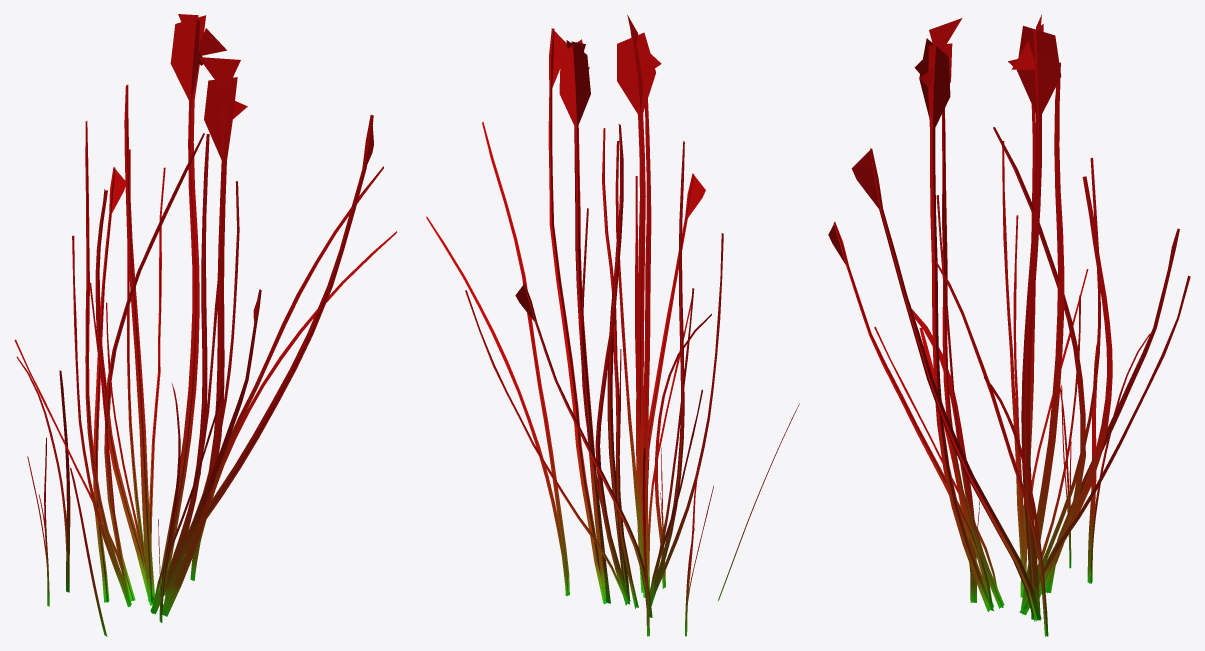
File: Var2_LOD0.fbx
The picture shows the model from 3 angles, left to right: view 1: azimuth 30°, elevation 25°; view 2: azimuth 150°, elevation 25°; view 3: azimuth 270°, elevation 25°; orthographic projection. The views are drawn at different scales.
Visible parts, largest first — view 1: _f80e_Var2_LOD0; view 2: _f80e_Var2_LOD0; view 3: _f80e_Var2_LOD0.
Boxes of the visible parts, <box> form: _f80e_Var2_LOD0: <box>14,14,396,636</box>; _f80e_Var2_LOD0: <box>426,15,799,636</box>; _f80e_Var2_LOD0: <box>828,14,1190,636</box>.
Bounding box in the file's own units: 64.25 × 99.55 × 52.83.
